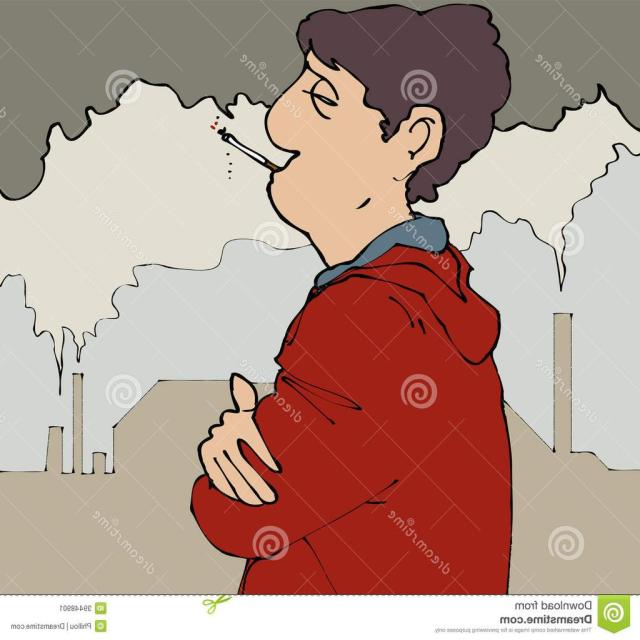smoking: (183, 22, 492, 260)
